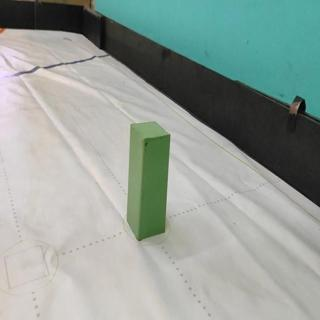greenbox: (126, 121, 172, 243)
